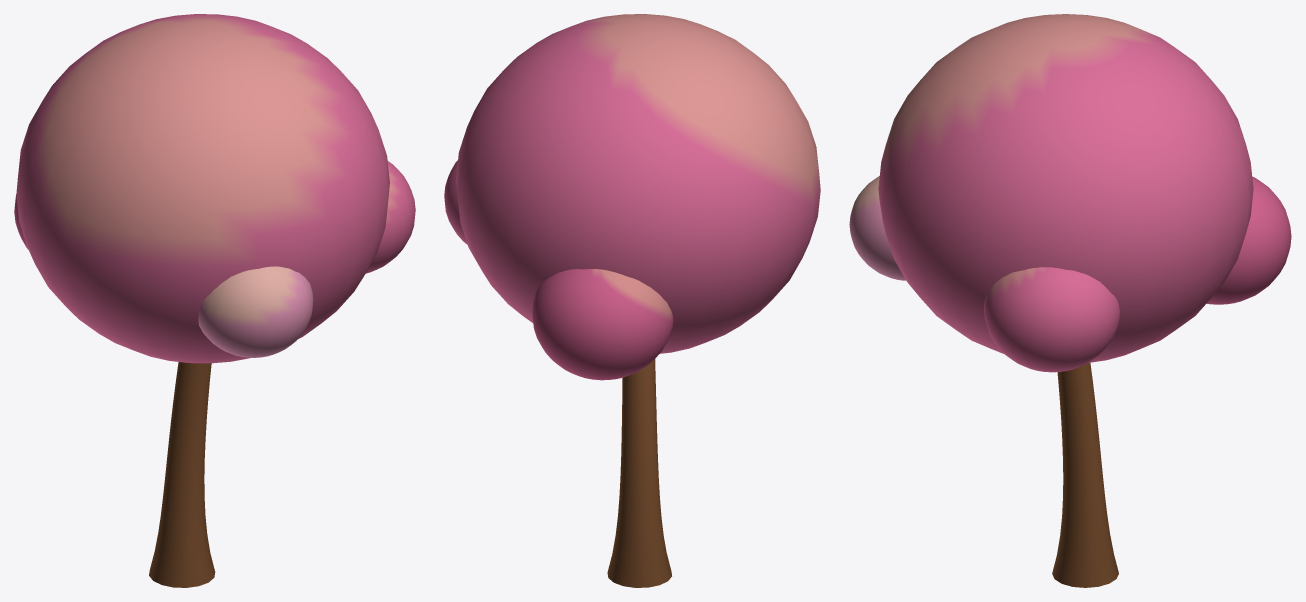
The model's file is lollipop-tree.obj.
3 renders of one model, left to right at view 1: azimuth 30°, elevation 25°; view 2: azimuth 150°, elevation 25°; view 3: azimuth 270°, elevation 25°, orthographic. The views are drawn at different scales.
Parts seen in each view (by area): view 1: tree; view 2: tree; view 3: tree.
Part boxes in pixels (<box>): tree: <box>14,14,415,587</box>; tree: <box>444,14,820,587</box>; tree: <box>849,14,1291,587</box>.
Size of the model in its own units: 317 by 461 by 338.
